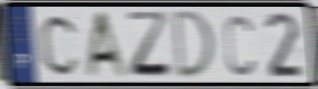2: (263, 10, 307, 80)
A: (82, 9, 133, 82)
C: (37, 12, 82, 78), (222, 12, 257, 78)
D: (172, 8, 217, 81)
Z: (125, 10, 175, 81)
